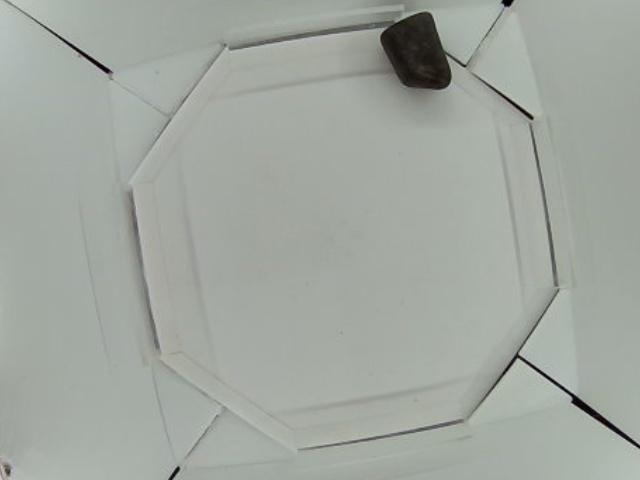Pebble: (381, 14, 448, 89)
